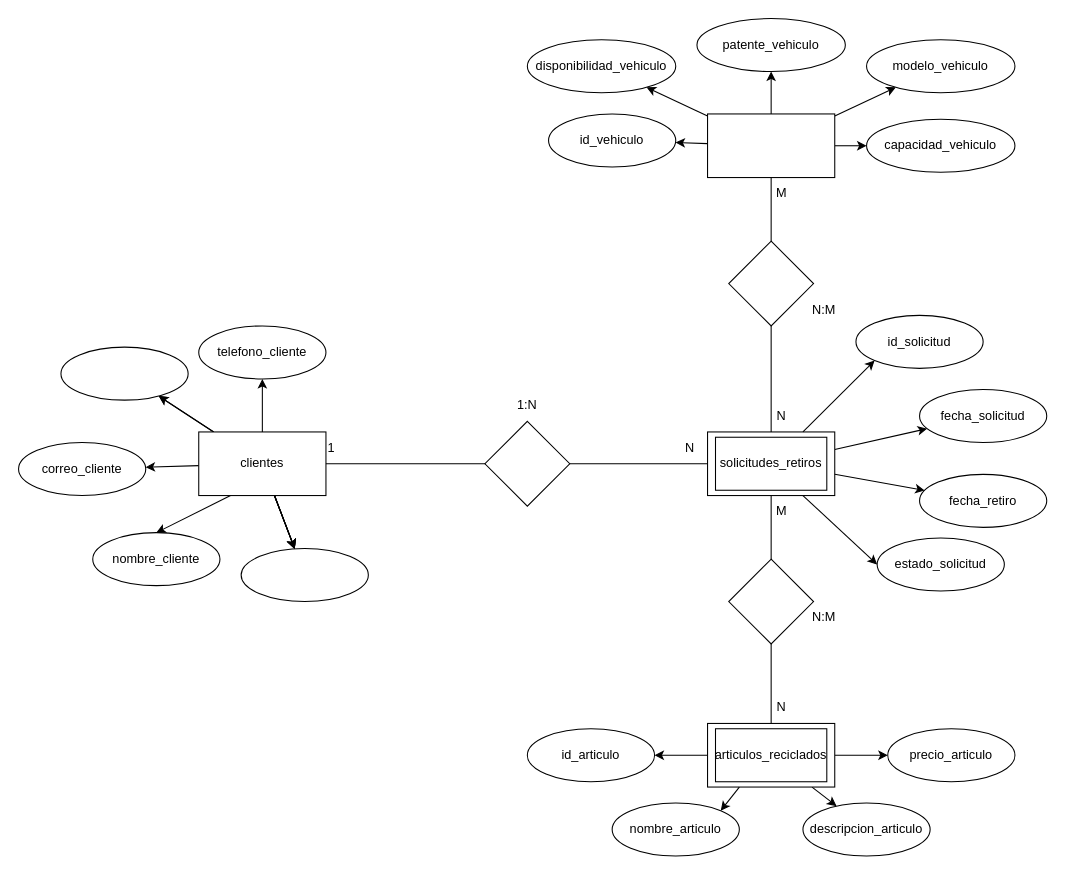
Image size: 1065x874. Some labels were removed from this diagram. The centre of each missing label's shape, as x and y in pixels:
asignar: (x=771, y=283)
contiene: (x=771, y=601)
direccion_cliente: (x=304, y=574)
id_cliente: (x=124, y=373)
realiza: (x=527, y=463)
vehiculos: (x=770, y=145)
